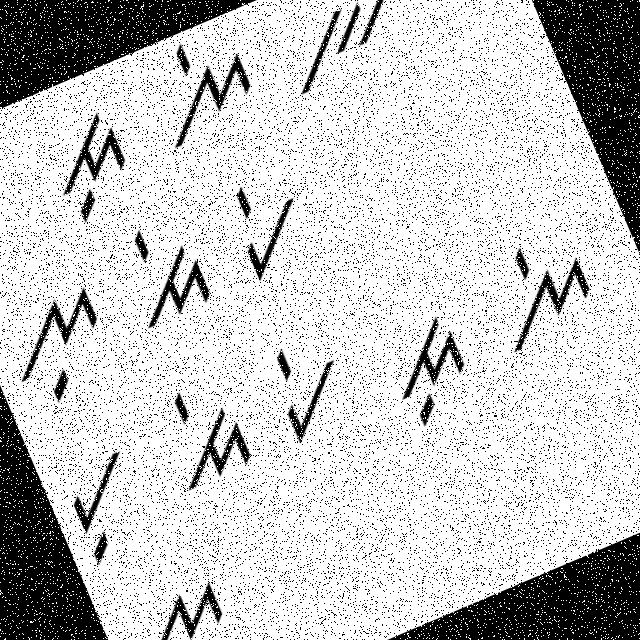de: (147, 369, 260, 502), (108, 205, 222, 334)
du: (359, 296, 496, 436), (32, 103, 148, 233)
ne: (463, 219, 612, 368), (132, 18, 270, 156)
nu: (0, 275, 134, 416), (111, 559, 272, 639)
pe: (208, 159, 326, 288), (257, 324, 365, 448)
pu: (46, 434, 162, 571), (0, 143, 45, 281)
